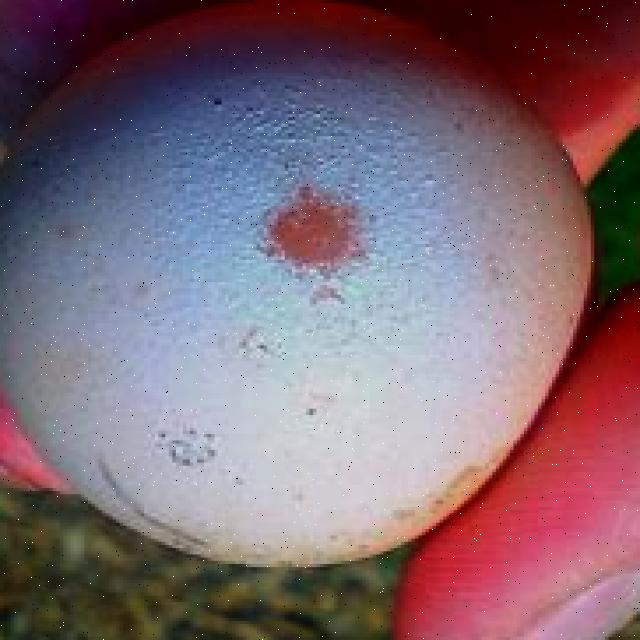Calcium Deposit Egg: (0, 0, 633, 574)
